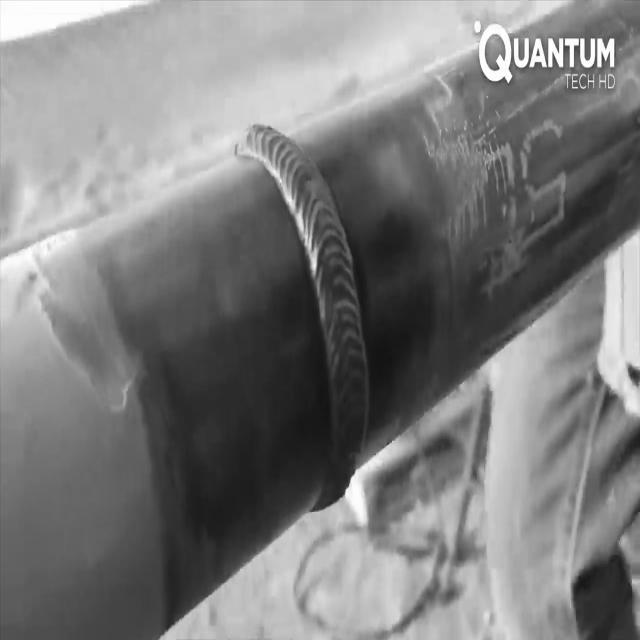Good Weld: (236, 135, 379, 446)
